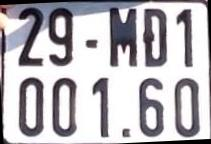-: (85, 37, 98, 50)
.: (121, 127, 131, 140)
0: (173, 77, 201, 137), (17, 77, 44, 137), (51, 78, 78, 136)
1: (91, 76, 112, 136), (177, 8, 196, 68)
2: (17, 5, 45, 65)
6: (138, 75, 165, 138)
9: (46, 7, 75, 68)
D: (144, 6, 168, 70)
M: (109, 6, 139, 70)
